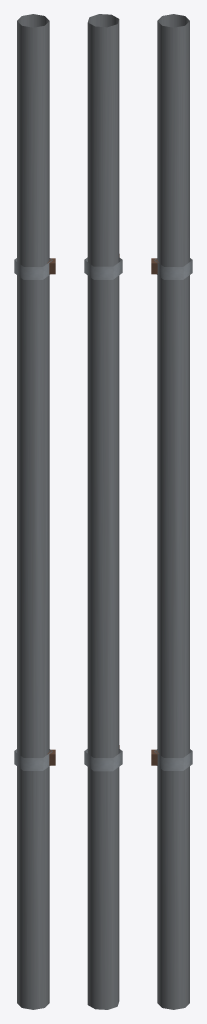
Rendered from FK_Downpipe.fbx.
The picture shows the model from 3 angles, left to right: view 1: azimuth 90°, elevation 25°; view 2: azimuth 150°, elevation 25°; view 3: azimuth 270°, elevation 25°; orthographic projection.
Visible parts, largest first — view 1: FK_Downpipe; view 2: FK_Downpipe; view 3: FK_Downpipe.
Boxes of the visible parts, box(x1,y1,x2,y2) form: FK_Downpipe: box(14, 14, 55, 1009); FK_Downpipe: box(84, 14, 122, 1009); FK_Downpipe: box(151, 14, 192, 1009).
Bounding box in the file's own units: 0.0918 × 3 × 0.115.
1 material, 1 textured.
